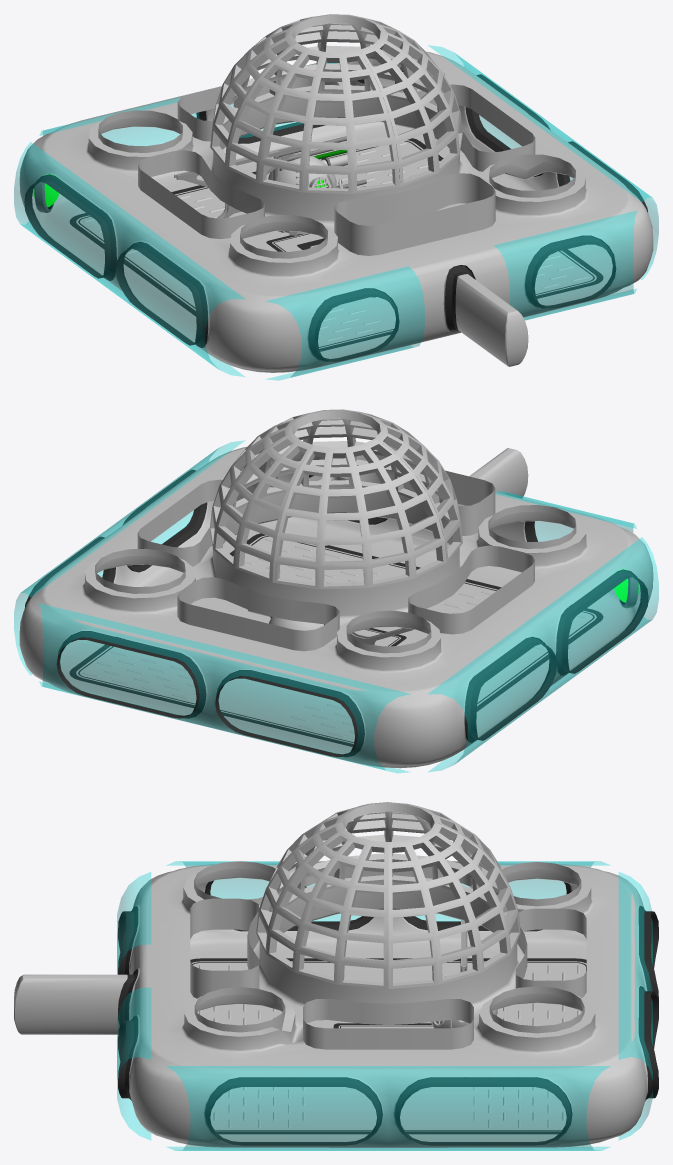
The model's file is RRLevel_Demo.fbx.
3 renders of one model, top to bottom at view 1: azimuth 30°, elevation 25°; view 2: azimuth 150°, elevation 25°; view 3: azimuth 270°, elevation 25°, orthographic. The views are drawn at different scales.
Visible parts, largest first — view 1: Level_Mesh, Level_Glass, Level_Trim, SphereChamber1, Level_FloorLights, WallPlate1, Pipes3Corner1, Level_CornerLights; view 2: Level_Mesh, Level_Glass, Level_Trim, Level_FloorLights, Level_CornerLights; view 3: Level_Mesh, Level_Glass, Level_Trim, Level_FloorLights.
Part boxes in pixels (x1,y1,x2,y2): Level_Mesh: (19,14,653,372); Level_Glass: (14,45,658,380); Level_Trim: (24,74,647,361); SphereChamber1: (268,153,342,236); Level_FloorLights: (84,142,588,341); WallPlate1: (174,146,301,238); Pipes3Corner1: (273,136,347,180); Level_CornerLights: (33,66,403,212); Level_Mesh: (19,409,653,768); Level_Glass: (14,440,658,773); Level_Trim: (24,469,648,757); Level_FloorLights: (83,538,587,737); Level_CornerLights: (270,462,640,608); Level_Mesh: (14,802,647,1147); Level_Glass: (117,861,652,1150); Level_Trim: (118,880,658,1145); Level_FloorLights: (199,964,580,1128).
Size of what is drawn, in the model's own units: 7303 by 3719 by 8678.
